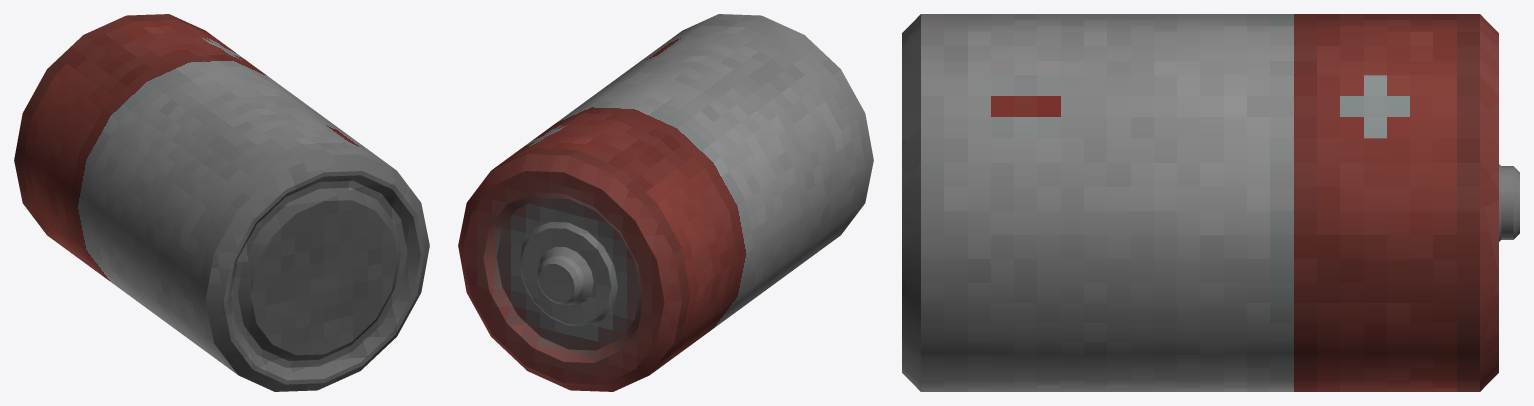
Rendered from battery_1.obj.
3 views of the same model, side by side, from view 1: azimuth 30°, elevation 25°; view 2: azimuth 150°, elevation 25°; view 3: azimuth 270°, elevation 25° (orthographic). The views are drawn at different scales.
Parts seen in each view (by area): view 1: battery_1; view 2: battery_1; view 3: battery_1.
Part boxes in pixels (left/top/right/bottom): battery_1: left=14, top=14, right=429, bottom=391; battery_1: left=458, top=14, right=873, bottom=391; battery_1: left=902, top=14, right=1519, bottom=391.
Bounding box in the file's own units: 0.054 × 0.054 × 0.0882.
